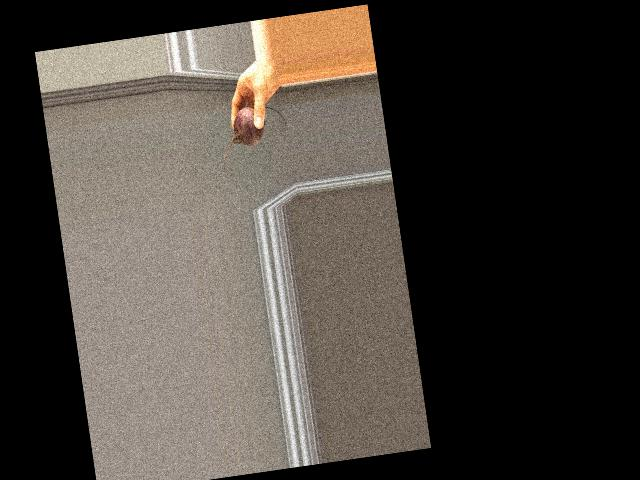beet: (216, 102, 292, 173)
